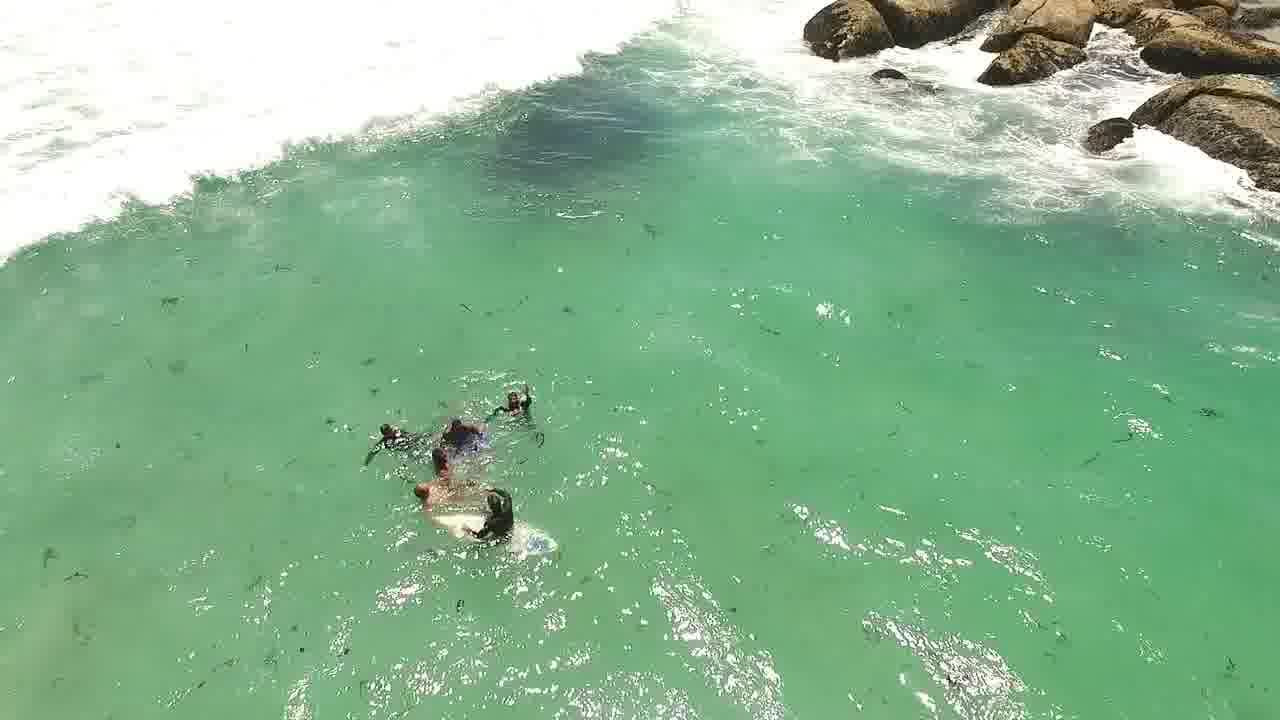swimmer: (414, 436, 476, 487), (352, 414, 419, 460), (436, 404, 495, 448), (401, 478, 458, 522), (490, 382, 546, 418)
